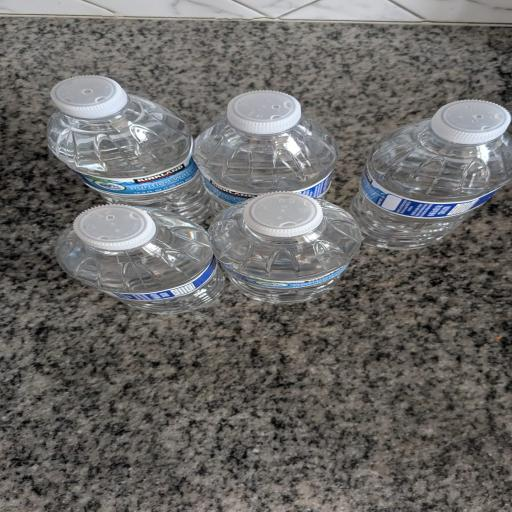waterbottle: (351, 101, 511, 249), (48, 76, 210, 221), (56, 204, 223, 313), (194, 91, 337, 212), (210, 192, 361, 302)
